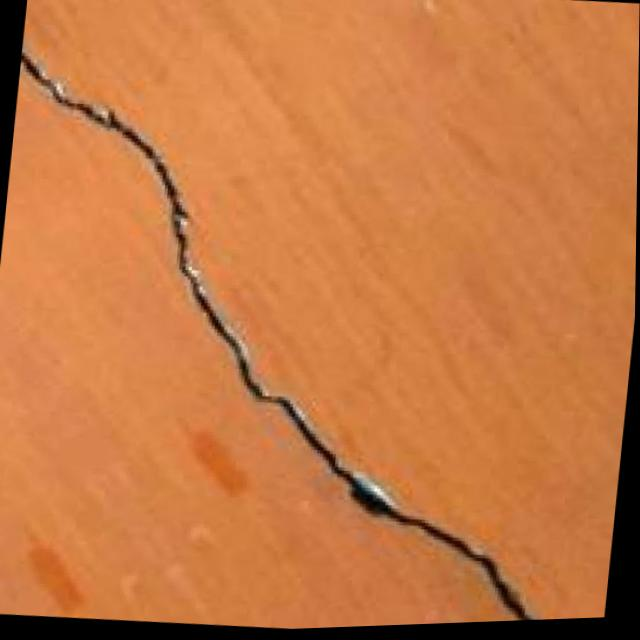Crack: (0, 7, 624, 640)
